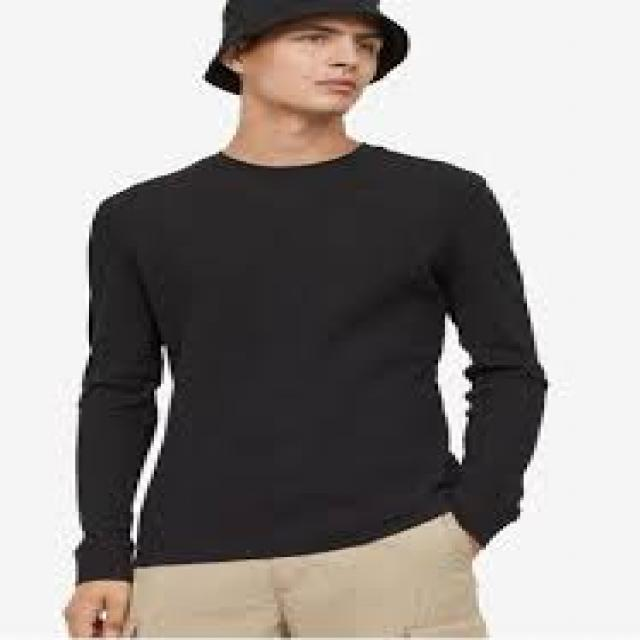plain: (77, 138, 553, 557)
